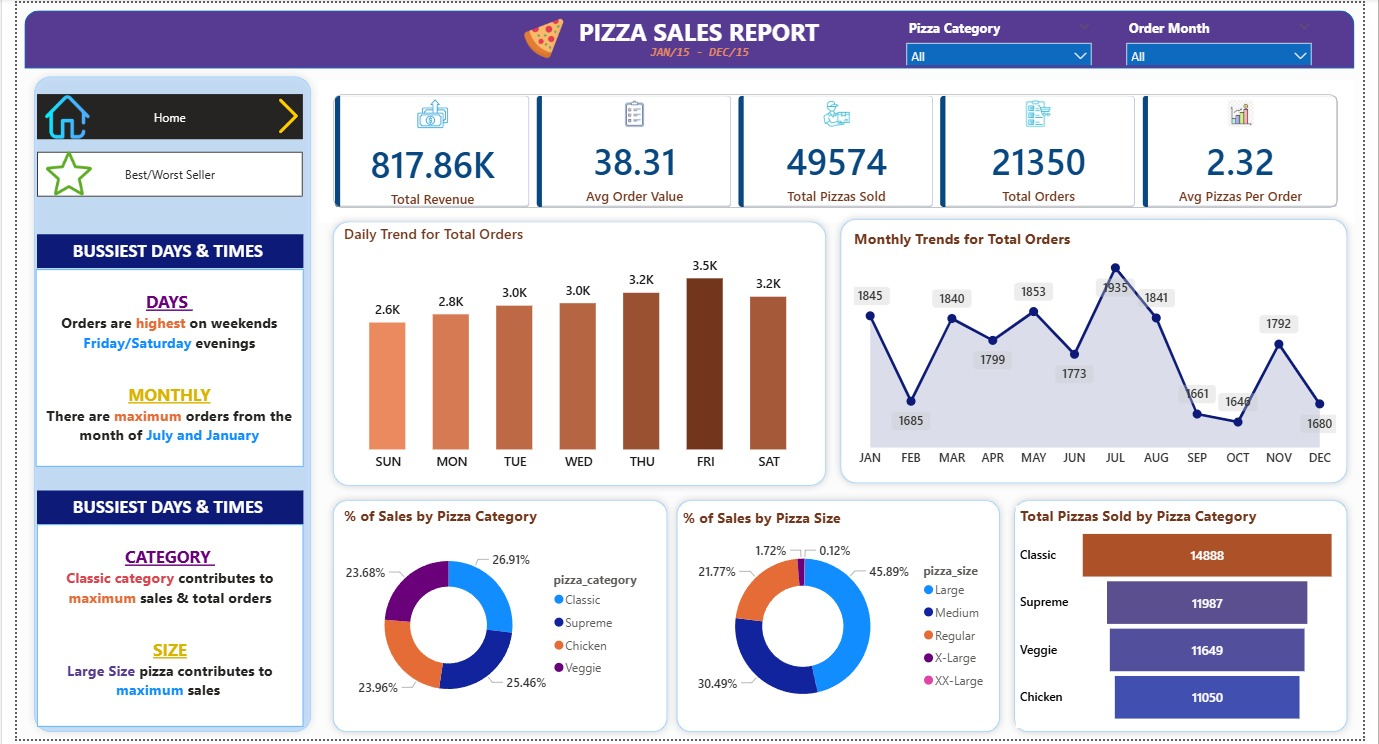

What the dashboard file says about the page in this screenshot:
{"tool":"powerbi","page":{"name":"Home","canvas":[1500,820],"ordinal":0},"visuals":[{"type":"cardVisual","fields":{"Data":["pizza_db pizza_sales_excel_file.Total Revenue","pizza_db pizza_sales_excel_file.Avg Order Value","pizza_db pizza_sales_excel_file.Total Pizzas Sold","pizza_db pizza_sales_excel_file.Total Orders","pizza_db pizza_sales_excel_file.Avg Pizzas Per Order"]},"box":[335.6,85,1154.5,160.2],"z":0},{"type":"shape","box":[8.5,8.5,1481.7,64.6],"z":1000},{"type":"textbox","box":[610,8.4,299.4,47.4],"z":2000},{"type":"textbox","box":[694.9,40.4,130.9,32],"z":3000},{"type":"image","box":[552.9,16.7,68.2,46],"z":4000},{"type":"shape","box":[344,235.4,565.4,310.6],"z":5000},{"type":"columnChart","title":"Daily Trend for Total Orders","fields":{"Category":["pizza_db pizza_sales_excel_file.Order Day"],"Y":["pizza_db pizza_sales_excel_file.Total Orders"]},"box":[359.3,245.1,533.4,285.5],"z":6000},{"type":"shape","box":[909.4,232.6,580.7,310.6],"z":7000},{"type":"areaChart","title":"Monthly Trends for Total Orders","fields":{"Y":["pizza_db pizza_sales_excel_file.Total Orders"],"Category":["pizza_db pizza_sales_excel_file.Order Month"]},"box":[927.5,250.7,547.3,275.7],"z":8000},{"type":"shape","box":[344,545.9,388.6,274.4],"z":9000},{"type":"shape","box":[727,545.9,376,274.4],"z":10000},{"type":"shape","box":[1103,545.9,387.2,274.4],"z":11000},{"type":"donutChart","title":"% of Sales by Pizza Category","fields":{"Category":["pizza_db pizza_sales_excel_file.pizza_category"],"Y":["pizza_db pizza_sales_excel_file.Total Revenue"]},"box":[359.3,559.9,352.3,245.1],"z":12000},{"type":"donutChart","title":"% of Sales by Pizza Size","fields":{"Y":["pizza_db pizza_sales_excel_file.Total Revenue"],"Category":["pizza_db pizza_sales_excel_file.pizza_size"]},"box":[736.7,561.2,357.9,245.1],"z":13000},{"type":"funnel","title":"Total Pizzas Sold by Pizza Category","fields":{"Category":["pizza_db pizza_sales_excel_file.pizza_category"],"Y":["pizza_db pizza_sales_excel_file.Total Pizzas Sold"]},"box":[1112.7,559.9,362.1,247.9],"z":14000},{"type":"shape","box":[11.1,73.8,324.5,746.5],"z":15000},{"type":"textbox","box":[22.3,257.6,296.6,37.6],"z":16000},{"type":"textbox","box":[20.9,296.6,298,220],"z":17000},{"type":"textbox","box":[22.3,543.1,296.6,37.6],"z":18000},{"type":"textbox","box":[22.3,580.7,296.6,225.6],"z":19000},{"type":"slicer","fields":{"Values":["pizza_db pizza_sales_excel_file.pizza_category"]},"box":[980.4,12.5,227,57.1],"z":20000},{"type":"slicer","title":"Order Month","fields":{"Values":["pizza_db pizza_sales_excel_file.Order Month"]},"box":[1225.5,12.5,227,57.1],"z":21000},{"type":"pageNavigator","box":[22.3,101.7,296.6,50.1],"z":21001},{"type":"pageNavigator","box":[22.3,165.7,296.6,50.1],"z":21002},{"type":"image","box":[268.8,105.8,66.8,40.4],"z":21003},{"type":"image","box":[21.2,101.2,70,50],"z":21004},{"type":"image","box":[30,165,53.8,51.2],"z":21005}]}

Visuals, with their boxes in screenshot pixels (x1, y1, x2, y2), scaled from the page's 1500x820 canvas onto the 1379x744 screenshot:
cardVisual - pizza_db pizza_sales_excel_file.Total Revenue x pizza_db pizza_sales_excel_file.Avg Order Value: <box>309,77,1370,222</box>
shape: <box>8,8,1370,66</box>
textbox: <box>561,8,836,51</box>
textbox: <box>639,37,759,66</box>
image: <box>508,15,571,57</box>
shape: <box>316,214,836,495</box>
"Daily Trend for Total Orders" columnChart: <box>330,222,821,481</box>
shape: <box>836,211,1370,493</box>
"Monthly Trends for Total Orders" areaChart: <box>853,227,1356,478</box>
shape: <box>316,495,674,743</box>
shape: <box>668,495,1014,743</box>
shape: <box>1014,495,1370,743</box>
"% of Sales by Pizza Category" donutChart: <box>330,508,654,730</box>
"% of Sales by Pizza Size" donutChart: <box>677,509,1006,732</box>
"Total Pizzas Sold by Pizza Category" funnel: <box>1023,508,1356,733</box>
shape: <box>10,67,309,743</box>
textbox: <box>21,234,293,268</box>
textbox: <box>19,269,293,469</box>
textbox: <box>21,493,293,527</box>
textbox: <box>21,527,293,732</box>
slicer - pizza_db pizza_sales_excel_file.pizza_category: <box>901,11,1110,63</box>
"Order Month" slicer: <box>1127,11,1335,63</box>
pageNavigator: <box>21,92,293,138</box>
pageNavigator: <box>21,150,293,196</box>
image: <box>247,96,309,133</box>
image: <box>19,92,84,137</box>
image: <box>28,150,77,196</box>
